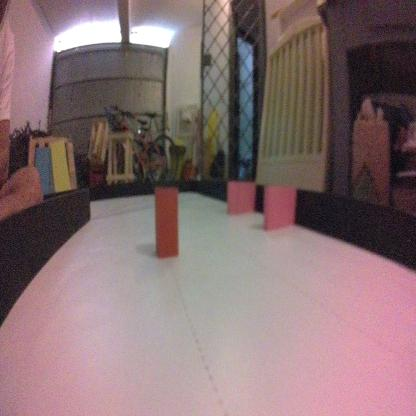magenta: (261, 185, 297, 233), (227, 178, 256, 218)
red: (152, 183, 180, 254)
